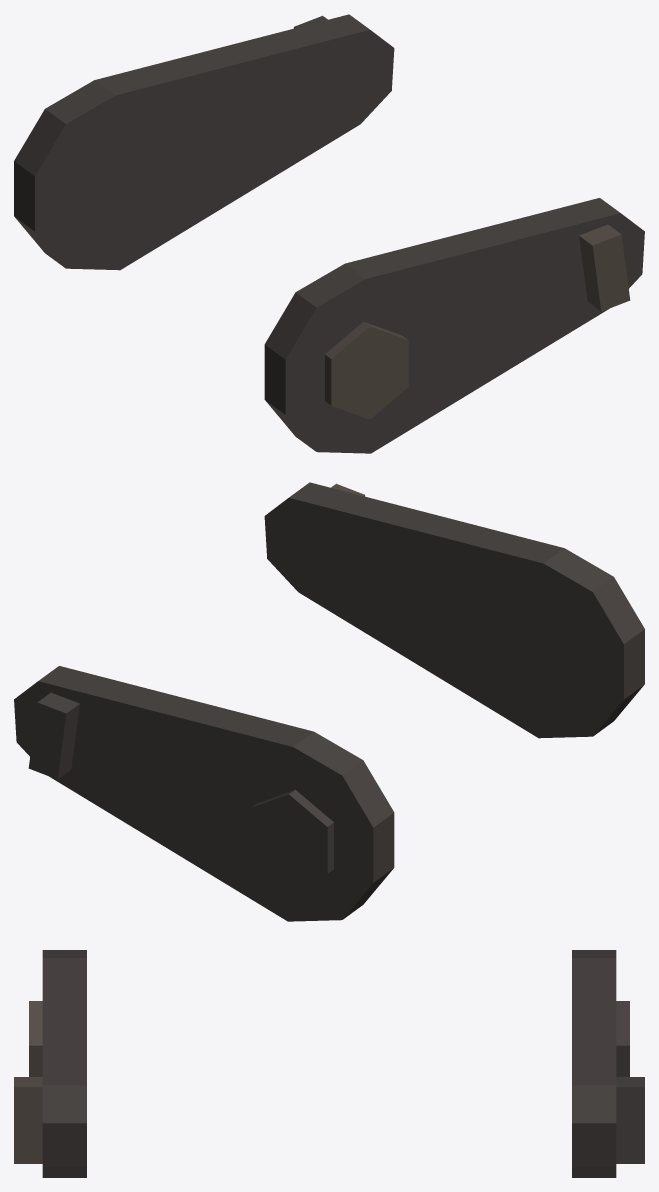
File: Pistol3_03_4.fbx
The picture shows the model from 3 angles, top to bottom: view 1: azimuth 30°, elevation 25°; view 2: azimuth 150°, elevation 25°; view 3: azimuth 270°, elevation 25°; orthographic projection. The views are drawn at different scales.
Visible parts, largest first — view 1: Pistol3_03_4; view 2: Pistol3_03_4; view 3: Pistol3_03_4.
Part boxes in pixels (left/top/right/bottom): Pistol3_03_4: left=14, top=14, right=644, bottom=453; Pistol3_03_4: left=14, top=482, right=644, bottom=921; Pistol3_03_4: left=14, top=950, right=644, bottom=1177.
Bounding box in the file's own units: 0.0373 × 0.0178 × 0.0538.
